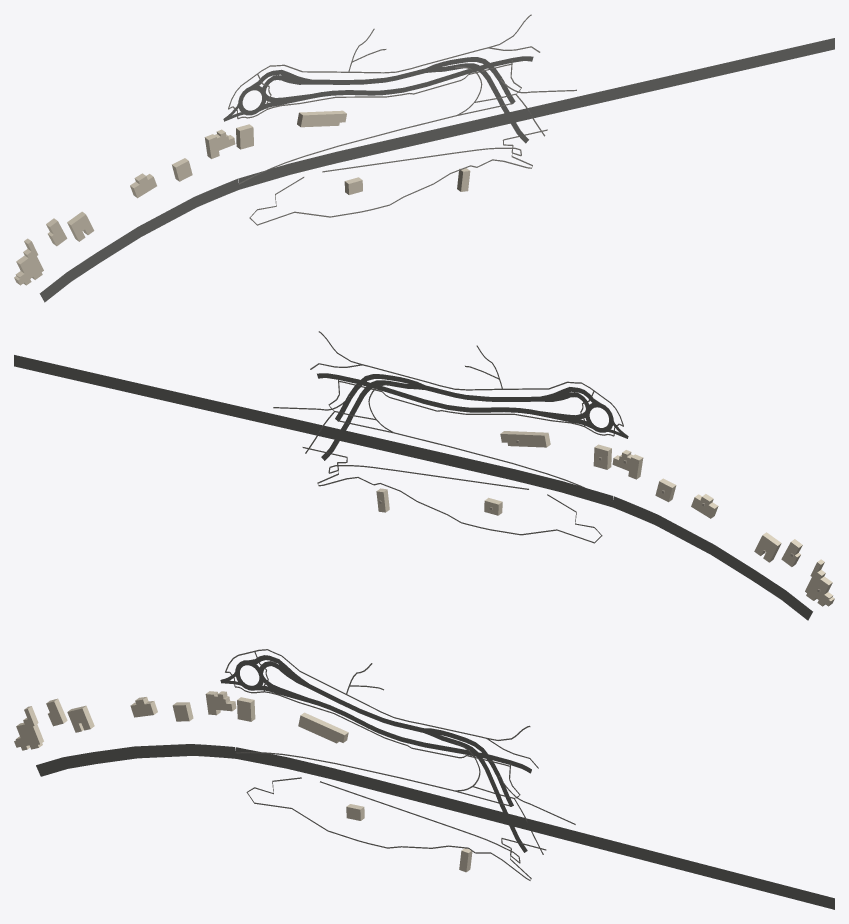
The model's file is historic-palestine-08_34_3496_3283.glb.
3 views of the same model, one above another, from view 1: azimuth 30°, elevation 25°; view 2: azimuth 150°, elevation 25°; view 3: azimuth 330°, elevation 25° (orthographic).
Visible parts, largest first — view 1: Road ההגנה.001, Road ההגנה, Road העליה השניה, Building_.008, Building_.009, Road .015, Building_.003; view 2: Road ההגנה.001, Road ההגנה, Road העליה השניה, Building_.008, Building_.009, Road .015, Building_.003; view 3: Road ההגנה.001, Road ההגנה, Road העליה השניה, Building_.008, Building_.009, Road .015, Building_.003, Road .007, Road טיילת אריה גוראל, Building_.007.
Boxes of the visible parts, left/top/right/bottom form: Road ההגנה.001: left=238, top=38, right=834, bottom=189; Road ההגנה: left=39, top=178, right=239, bottom=302; Road העליה השניה: left=311, top=56, right=533, bottom=98; Building_.008: left=14, top=238, right=43, bottom=285; Building_.009: left=297, top=110, right=346, bottom=127; Road .015: left=249, top=165, right=476, bottom=225; Building_.003: left=204, top=129, right=235, bottom=158; Road ההגנה.001: left=14, top=355, right=613, bottom=506; Road ההגנה: left=612, top=496, right=812, bottom=620; Road העליה השניה: left=317, top=373, right=540, bottom=415; Building_.008: left=805, top=559, right=834, bottom=606; Building_.009: left=500, top=431, right=550, bottom=447; Road .015: left=374, top=483, right=602, bottom=543; Building_.003: left=612, top=450, right=643, bottom=479; Road ההגנה.001: left=235, top=747, right=834, bottom=909; Road ההגנה: left=36, top=744, right=236, bottom=776; Road העליה השניה: left=308, top=698, right=531, bottom=773; Building_.008: left=14, top=706, right=43, bottom=750; Building_.009: left=298, top=712, right=348, bottom=743; Road .015: left=246, top=777, right=474, bottom=852; Building_.003: left=205, top=691, right=236, bottom=715; Road .007: left=235, top=686, right=509, bottom=766; Road טיילת אריה גוראל: left=225, top=649, right=486, bottom=738; Building_.007: left=67, top=705, right=94, bottom=732.
Size of the model in its own units: 887 by 201 by 8.7.
